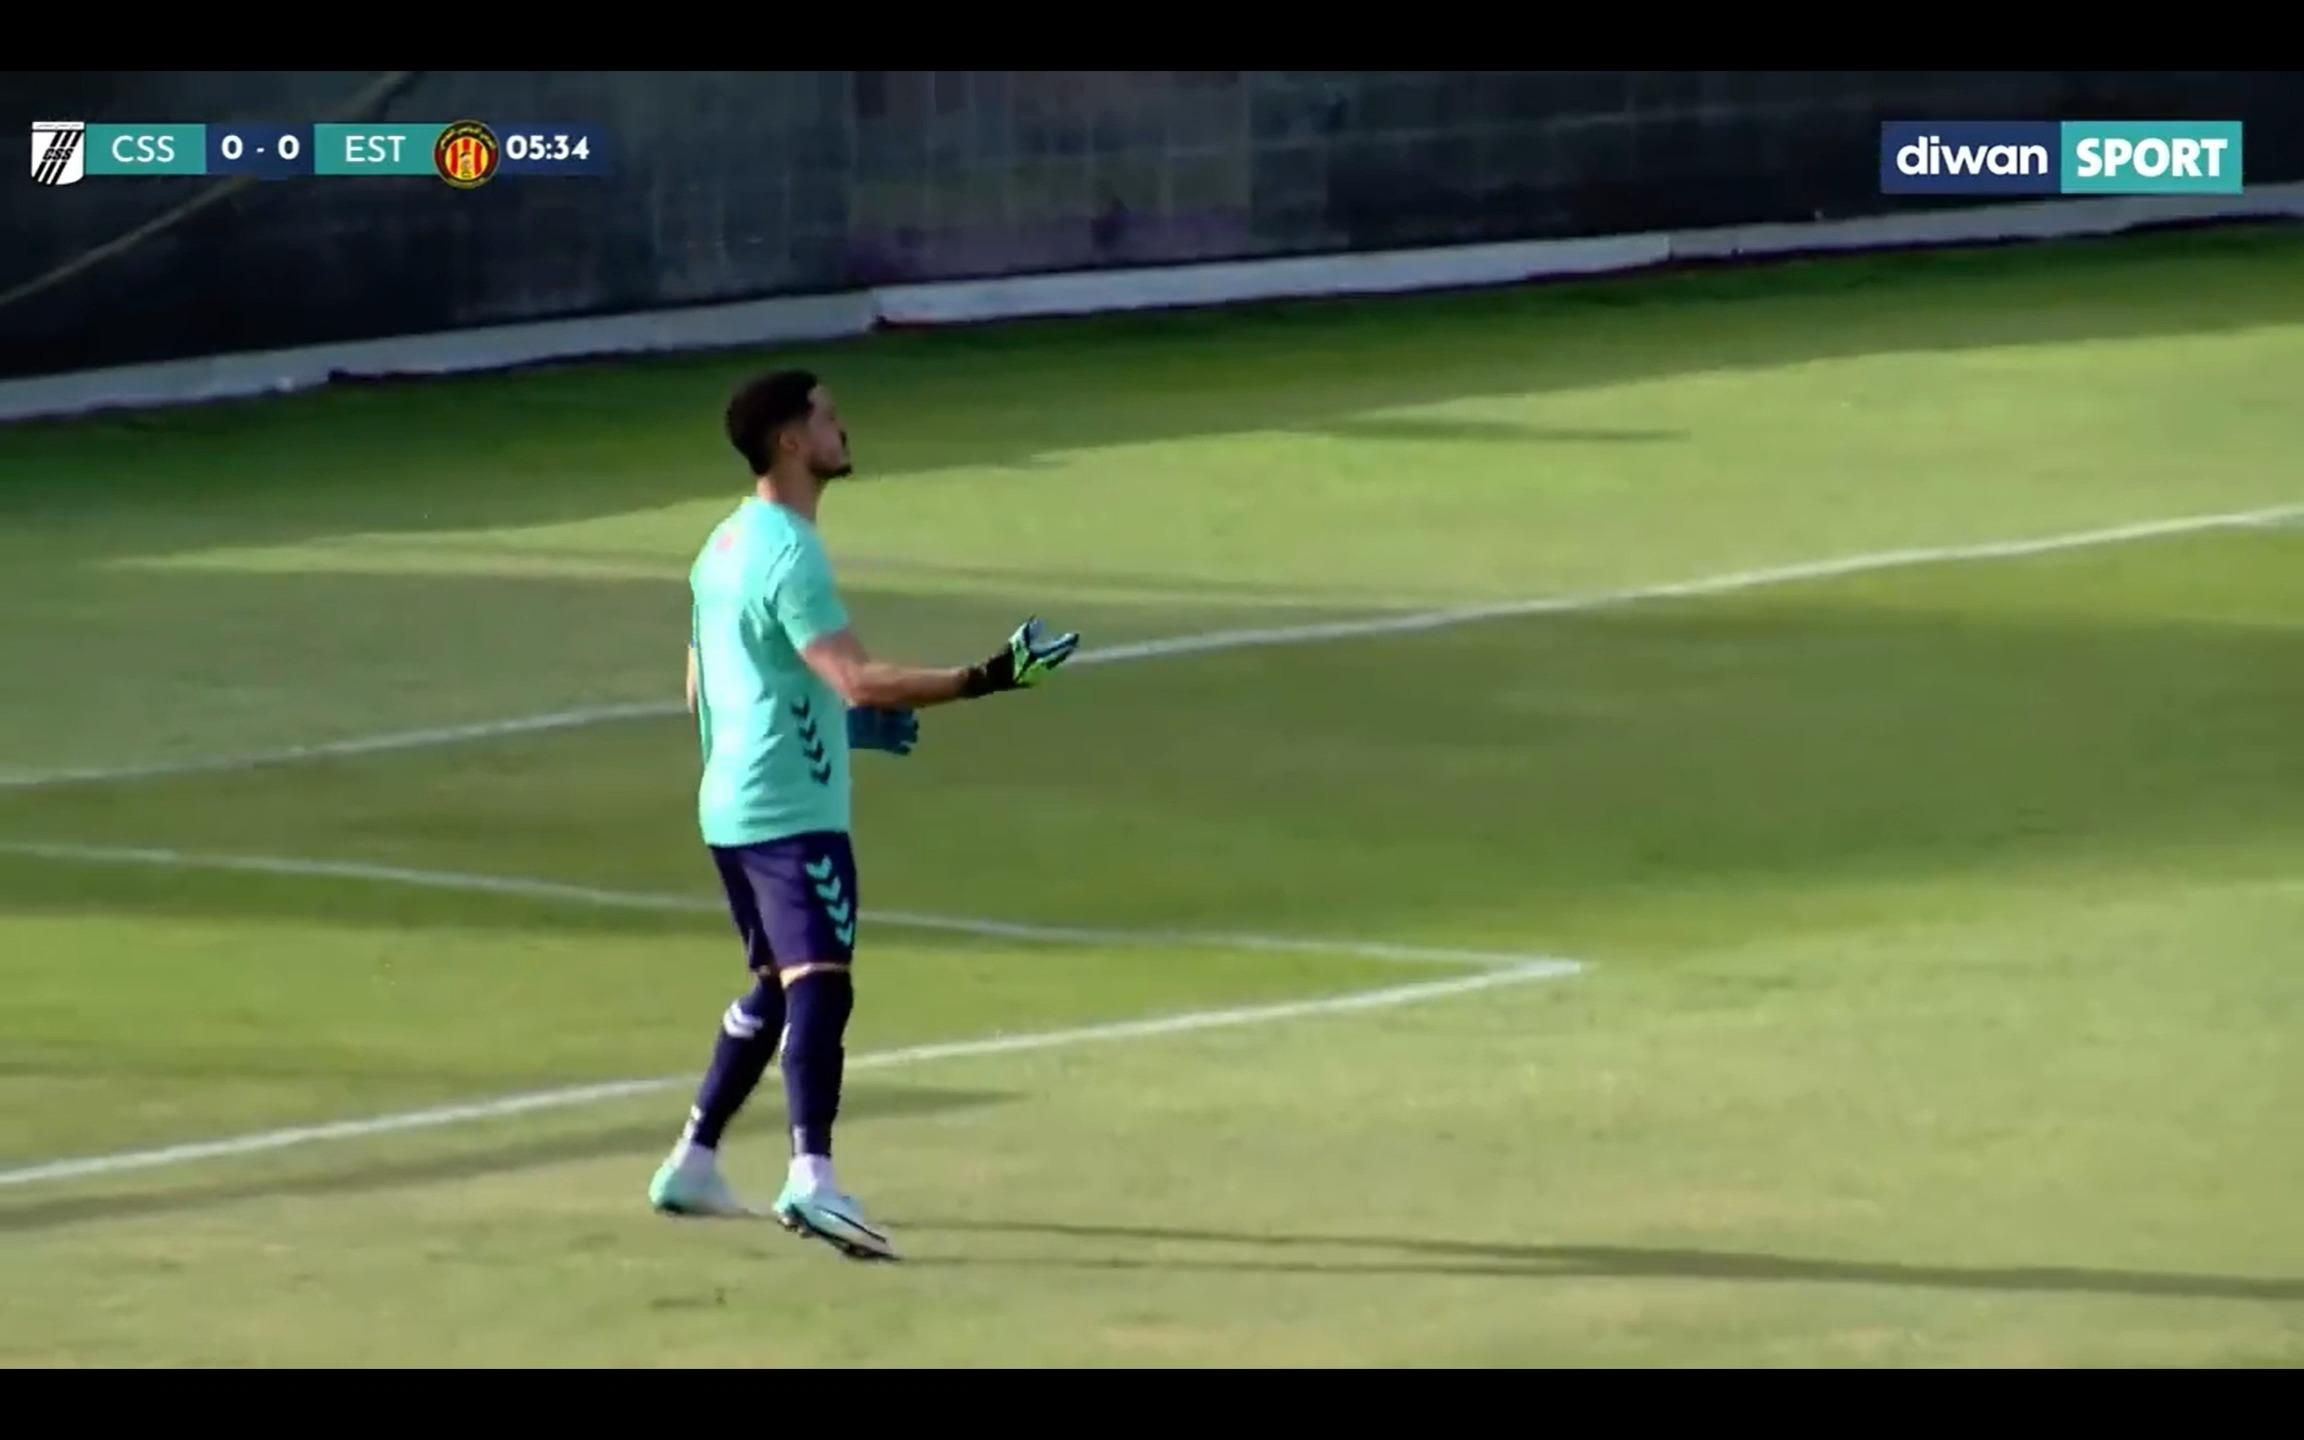goalkeeper: (483, 222, 1198, 1289)
